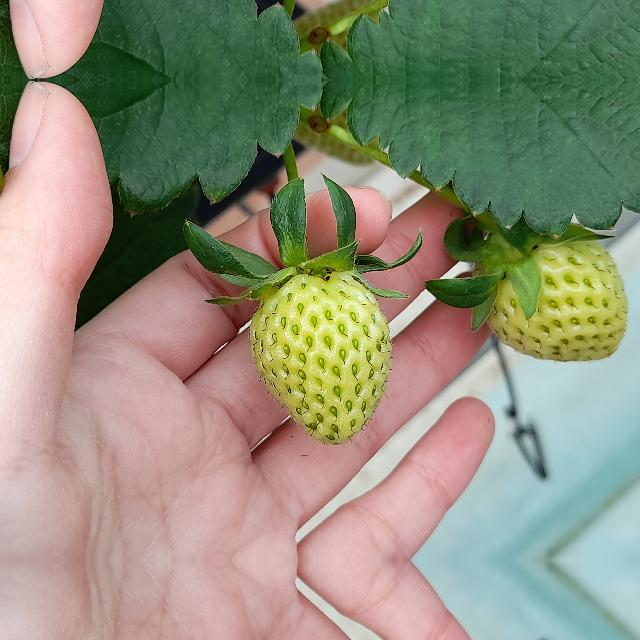Health_25: (248, 272, 392, 444), (470, 221, 630, 365)
